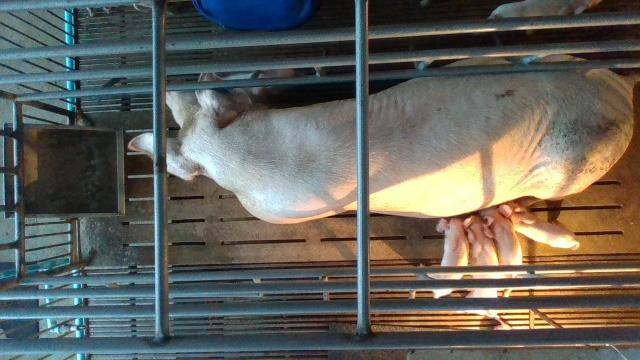piglet: (503, 200, 582, 252), (464, 215, 501, 317), (426, 218, 469, 300), (477, 206, 522, 280), (488, 1, 601, 15)
sow-sit: (127, 58, 634, 225)
